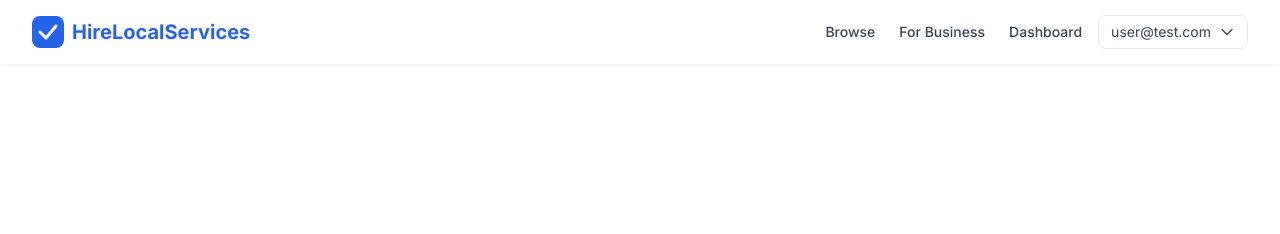
Scenario: Header › shows Sign Out in dropdown when logged in
Expected: the link "Dashboard" is shown, [1009,22,1082,42]
Click the dropdown trigger button in the nav
Click the button "user@test.com": (1173, 32) [1098,15,1248,49]
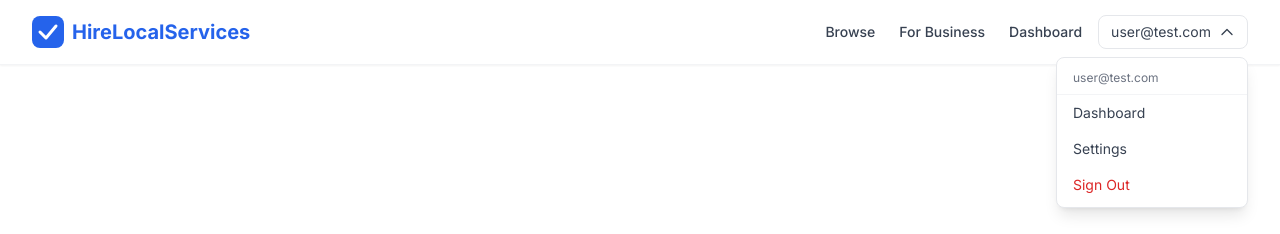
Expected: the button "Sign Out" is shown, [1057,167,1247,203]
